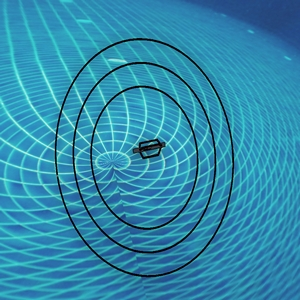submarine: (138, 140, 163, 159)
